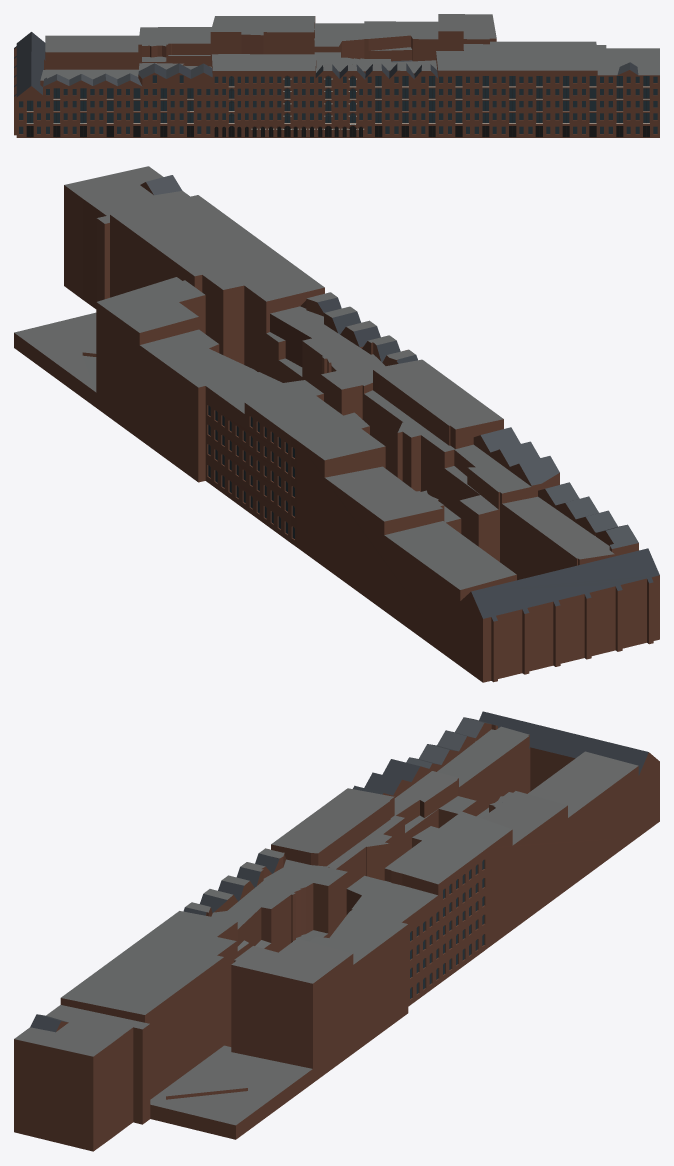
Rendered from recipe-large-entrepotdok-164981.glb.
3 views of the same model, one above another, from view 1: azimuth 30°, elevation 25°; view 2: azimuth 150°, elevation 25°; view 3: azimuth 270°, elevation 25° (orthographic). The views are drawn at different scales.
Parts seen in each view (by area): view 1: entrepotdok-164981; view 2: entrepotdok-164981; view 3: entrepotdok-164981.
Boxes of the visible parts, x1,y1,x2,y2 form: entrepotdok-164981: (14, 14, 659, 137); entrepotdok-164981: (14, 166, 659, 682); entrepotdok-164981: (14, 711, 659, 1151).
Size of the model in its own units: 143 by 18.58 by 105.
